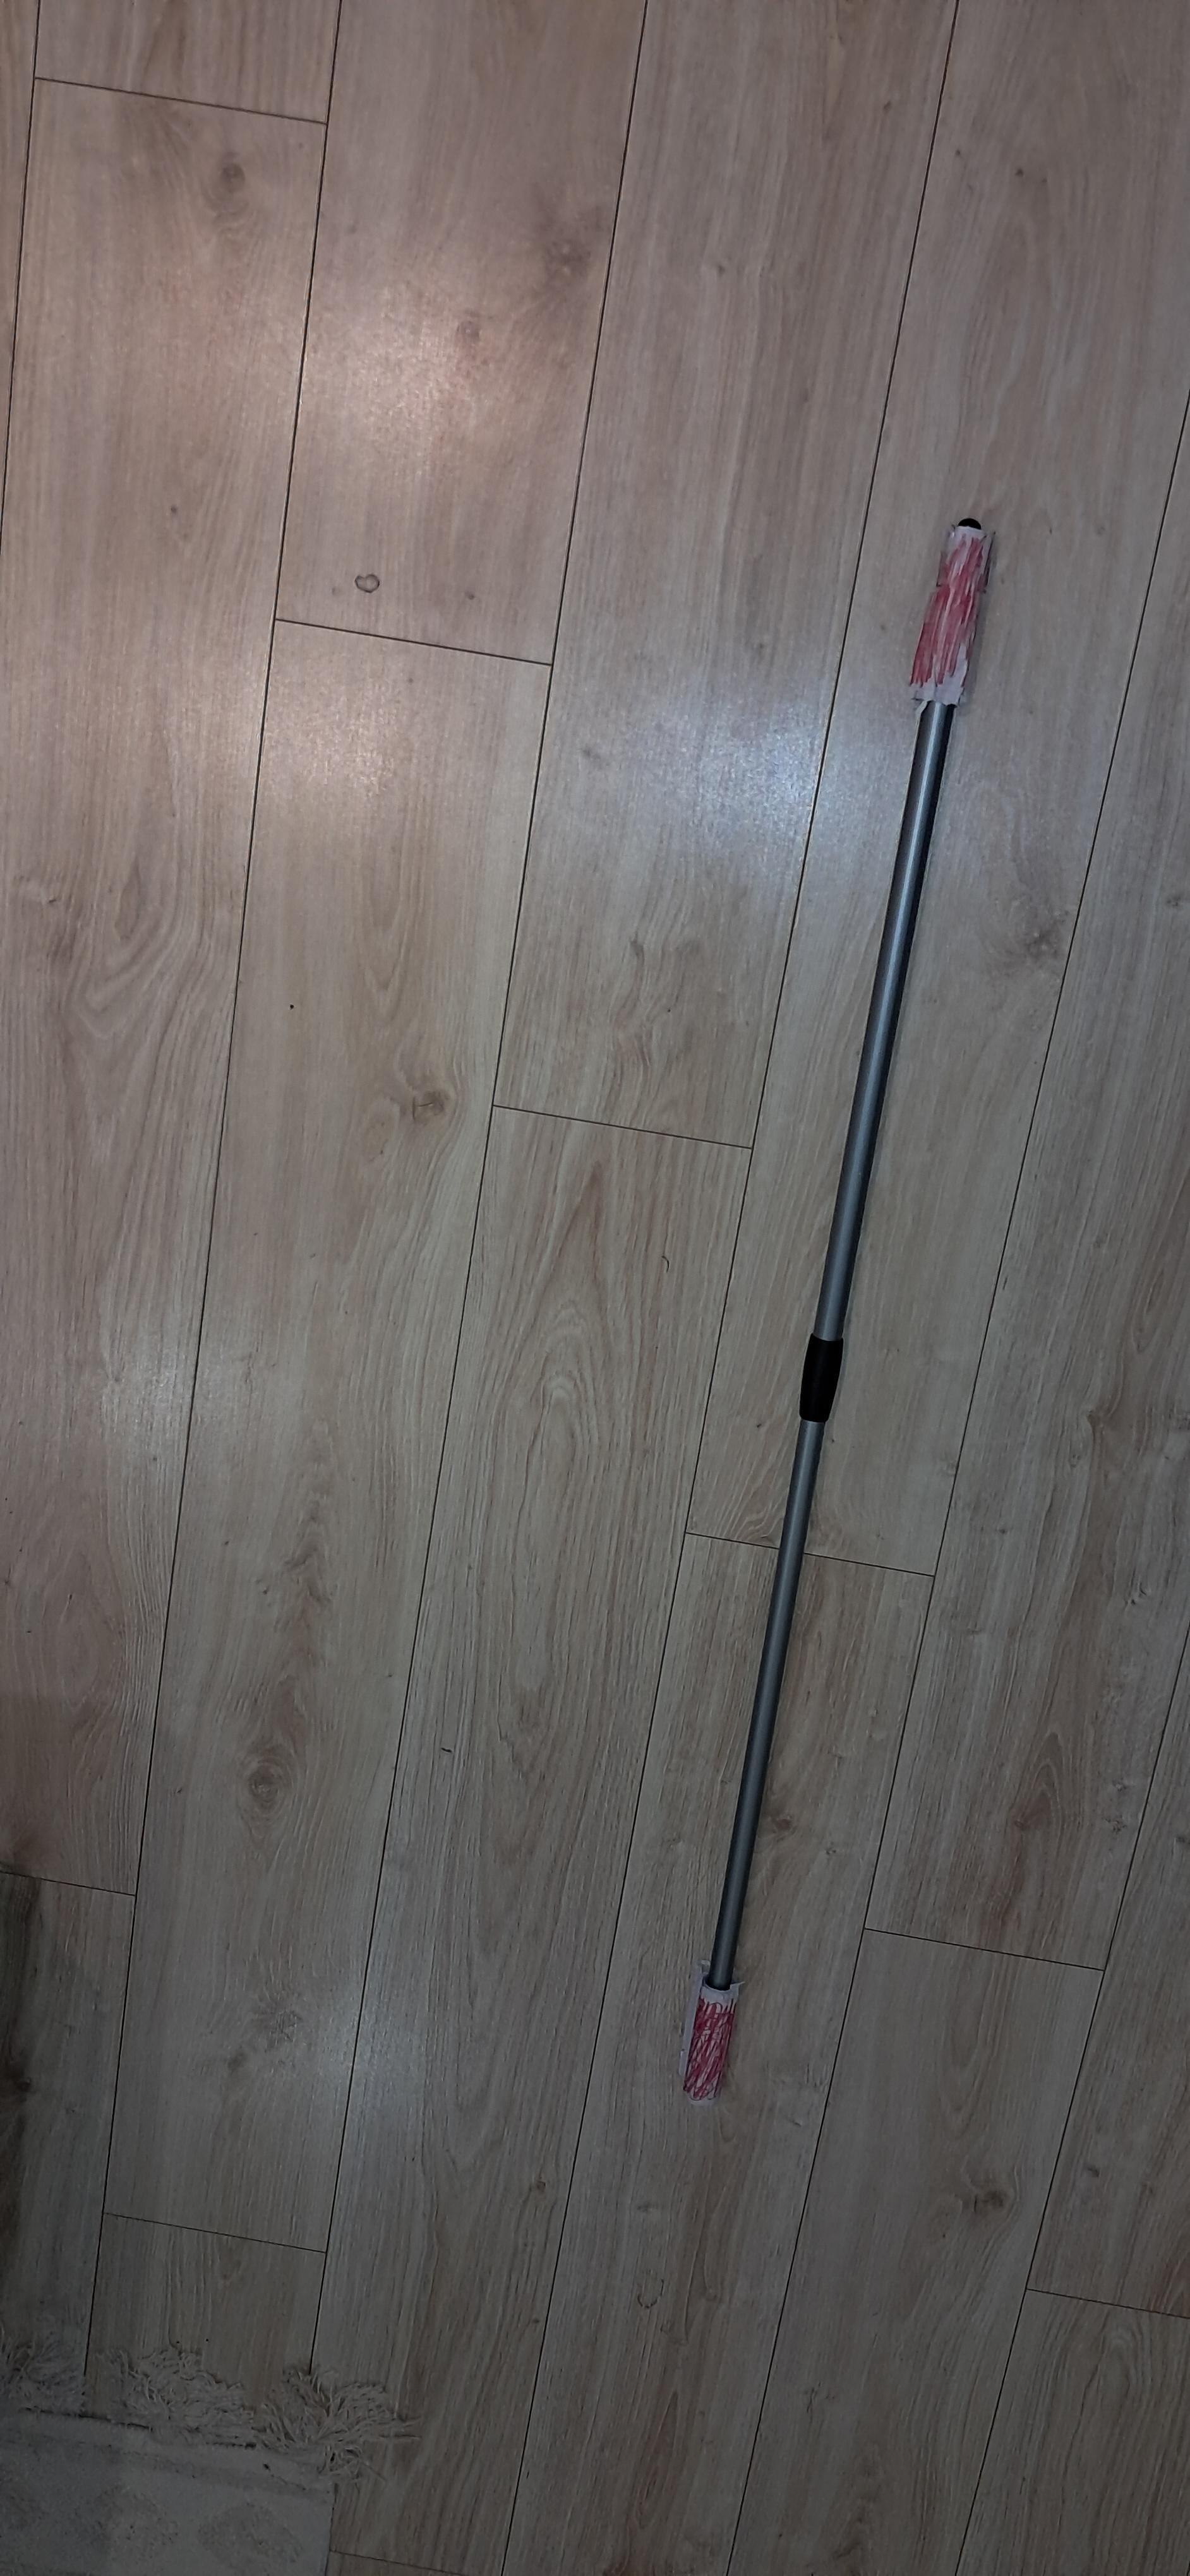broom-handle: (682, 521, 991, 2100)
